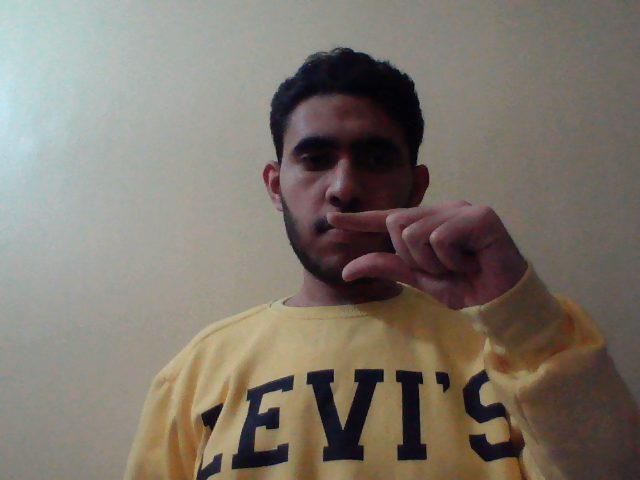G: (318, 197, 545, 325)
